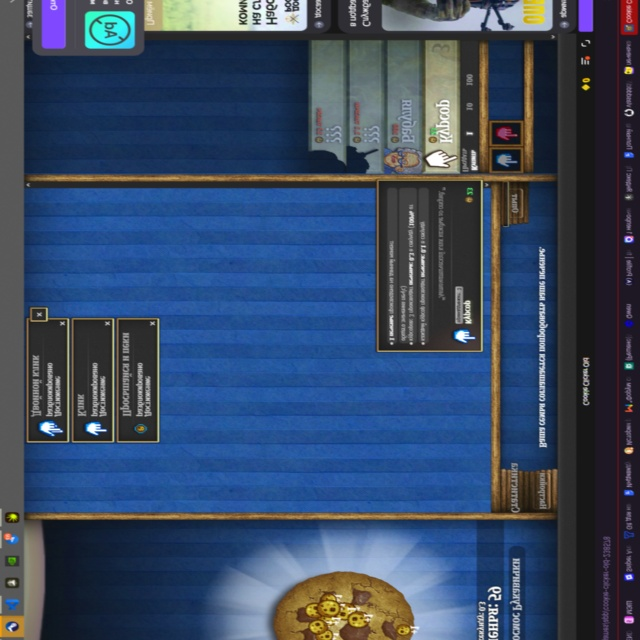game: (275, 571, 416, 640), (80, 9, 138, 49)
pokypki: (249, 39, 441, 169), (352, 34, 525, 173)
